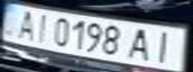0: (48, 15, 72, 47)
1: (66, 17, 87, 51)
8: (100, 21, 127, 57)
9: (81, 19, 106, 54)
A: (124, 25, 157, 62), (9, 7, 42, 40)
I: (148, 28, 184, 64), (30, 11, 54, 43)
